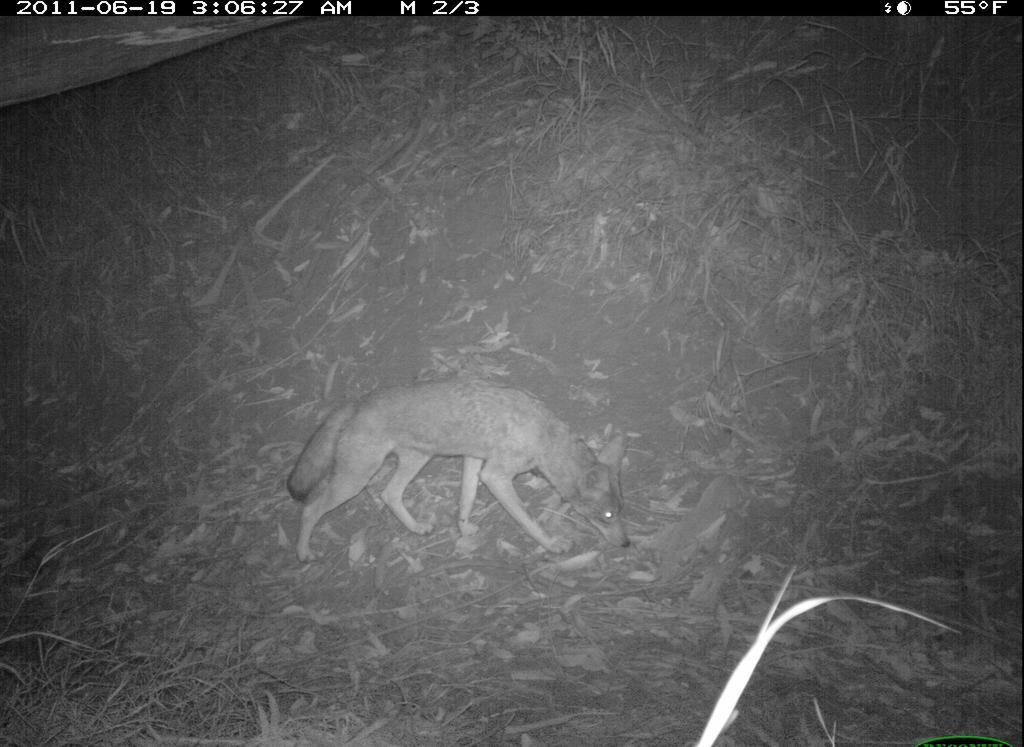coyote: (276, 369, 638, 569)
